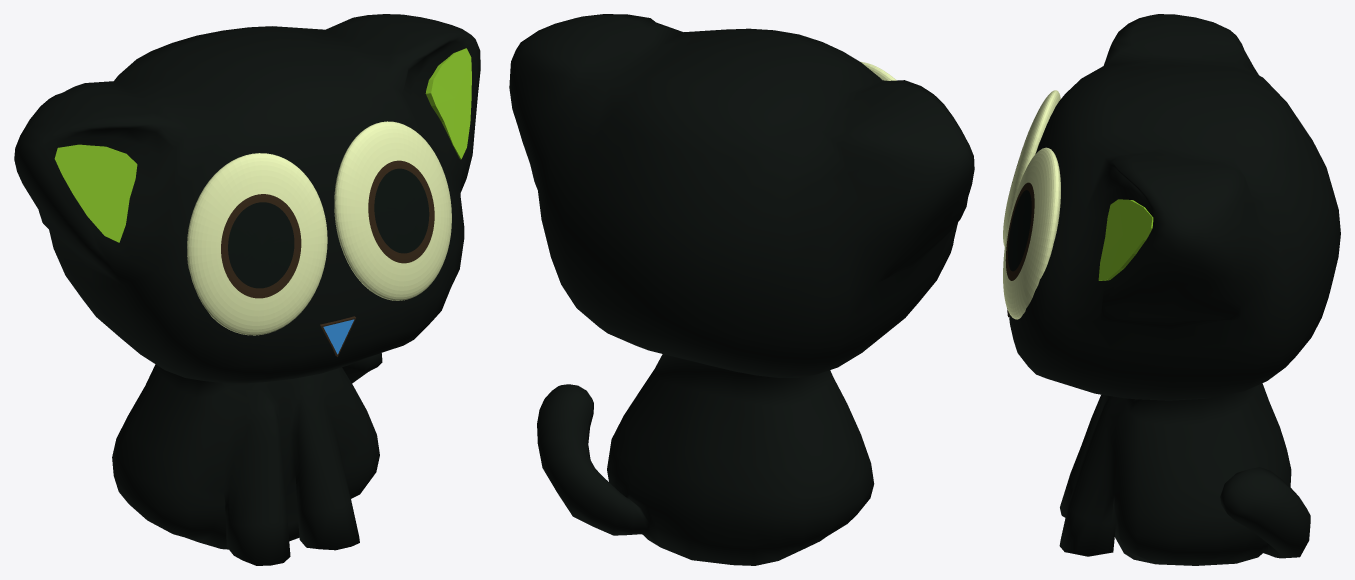
The model's file is xiaohei.glb.
3 renders of one model, left to right at view 1: azimuth 30°, elevation 25°; view 2: azimuth 150°, elevation 25°; view 3: azimuth 270°, elevation 25°, orthographic. The views are drawn at different scales.
Visible parts, largest first — view 1: Cube, 球体.001, 平面.001, 平面; view 2: Cube; view 3: Cube, 球体.001, 平面.001.
Boxes of the visible parts, left/top/right/bottom form: Cube: left=14, top=14, right=480, bottom=565; 球体.001: left=187, top=121, right=451, bottom=335; 平面.001: left=54, top=48, right=471, bottom=242; 平面: left=320, top=316, right=355, bottom=356; Cube: left=509, top=14, right=974, bottom=565; Cube: left=1008, top=14, right=1340, bottom=565; 球体.001: left=1003, top=90, right=1060, bottom=319; 平面.001: left=1098, top=199, right=1153, bottom=280.
Size of the model in its own units: 2.91 by 2.86 by 1.95.
